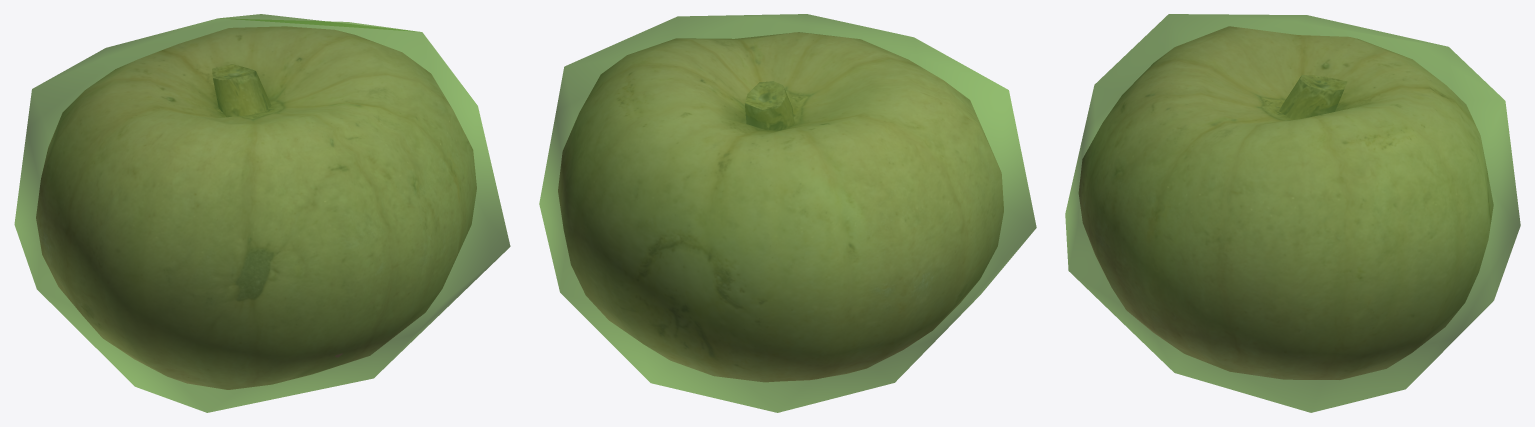
File: pg_Pumpkin_01.fbx
3 views of the same model, side by side, from view 1: azimuth 30°, elevation 25°; view 2: azimuth 150°, elevation 25°; view 3: azimuth 270°, elevation 25° (orthographic). The views are drawn at different scales.
Parts seen in each view (by area): view 1: pg_Pumpkin_01_a_col, pg_Pumpkin_01_a_LOD0; view 2: pg_Pumpkin_01_a_col, pg_Pumpkin_01_a_LOD0; view 3: pg_Pumpkin_01_a_col, pg_Pumpkin_01_a_LOD0.
Boxes of the visible parts, x1,y1,x2,y2 form: pg_Pumpkin_01_a_col: [14, 14, 510, 412]; pg_Pumpkin_01_a_LOD0: [36, 26, 476, 389]; pg_Pumpkin_01_a_col: [539, 14, 1036, 412]; pg_Pumpkin_01_a_LOD0: [558, 32, 1003, 382]; pg_Pumpkin_01_a_col: [1065, 14, 1520, 412]; pg_Pumpkin_01_a_LOD0: [1078, 26, 1493, 379].
Size of what is drawn, in the model's own units: 36.05 by 23.58 by 33.92.
